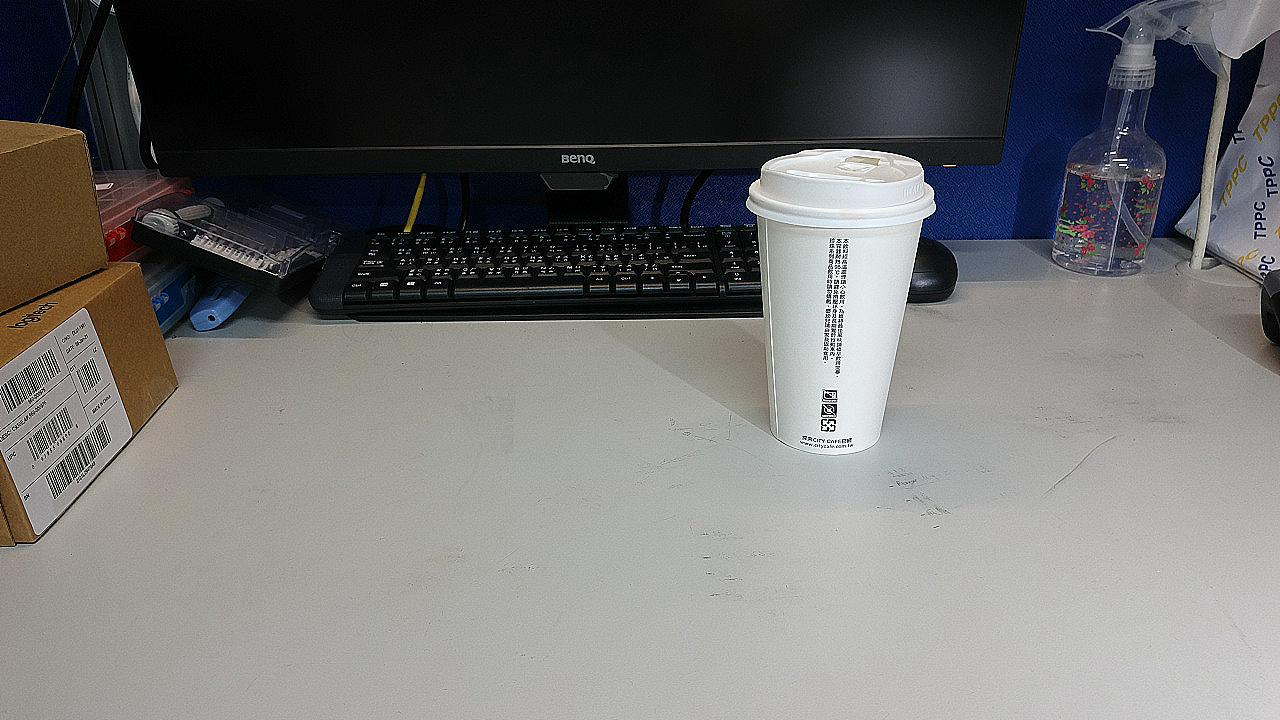columnar: (679, 386, 931, 706)
grip: (922, 488, 1017, 677)
